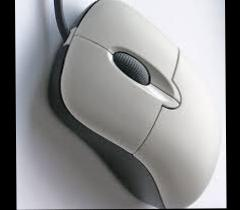mouse: (40, 0, 223, 210)
